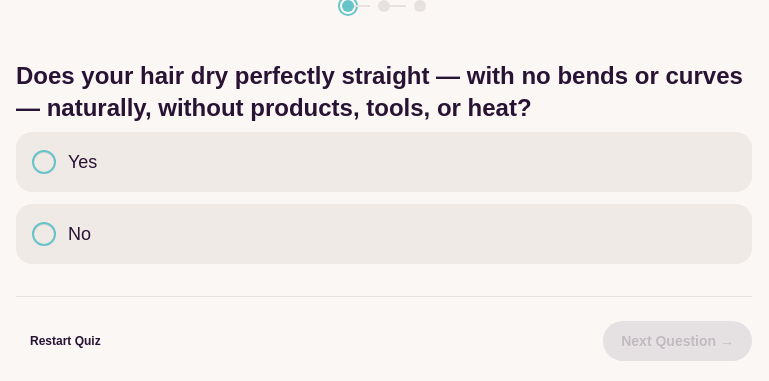
Test: NewQuiz Component › Quiz flow - Straight path › selecting Yes on straight gate shows wet straight gate question
The image size is (769, 381).
Check: the heading "Does your hair dry perfectly straight" is shown, box [16,62,743,121]
What coordinates should you click on to do the following:
click the radio button labelled "Yes"
I would click on:
 (44, 162)
Its box is [32,150,56,174].
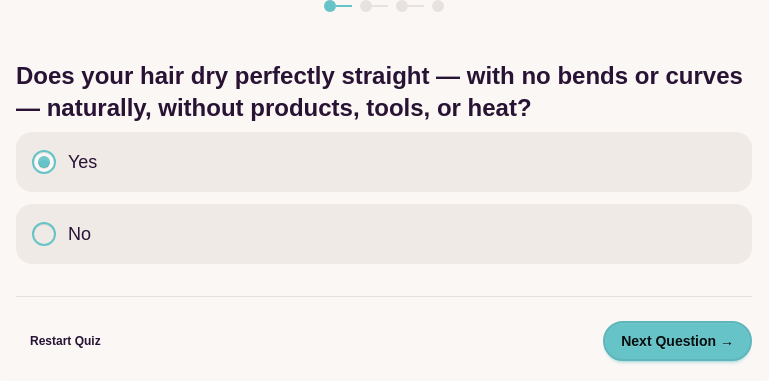
What coordinates should you click on to do the following:
click the button "Next Question →"
I would click on:
 (678, 341)
Its box is [603,321,752,361].
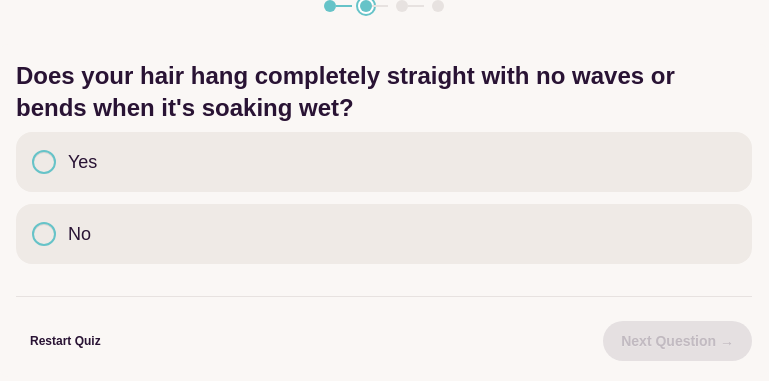
Check: the heading "does your hair hang completely straight with no waves or bends when it's soaking wet" is shown, box [16,62,675,121]
